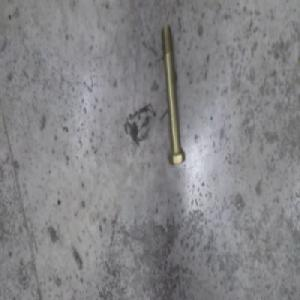Bolt: (160, 29, 186, 163)
